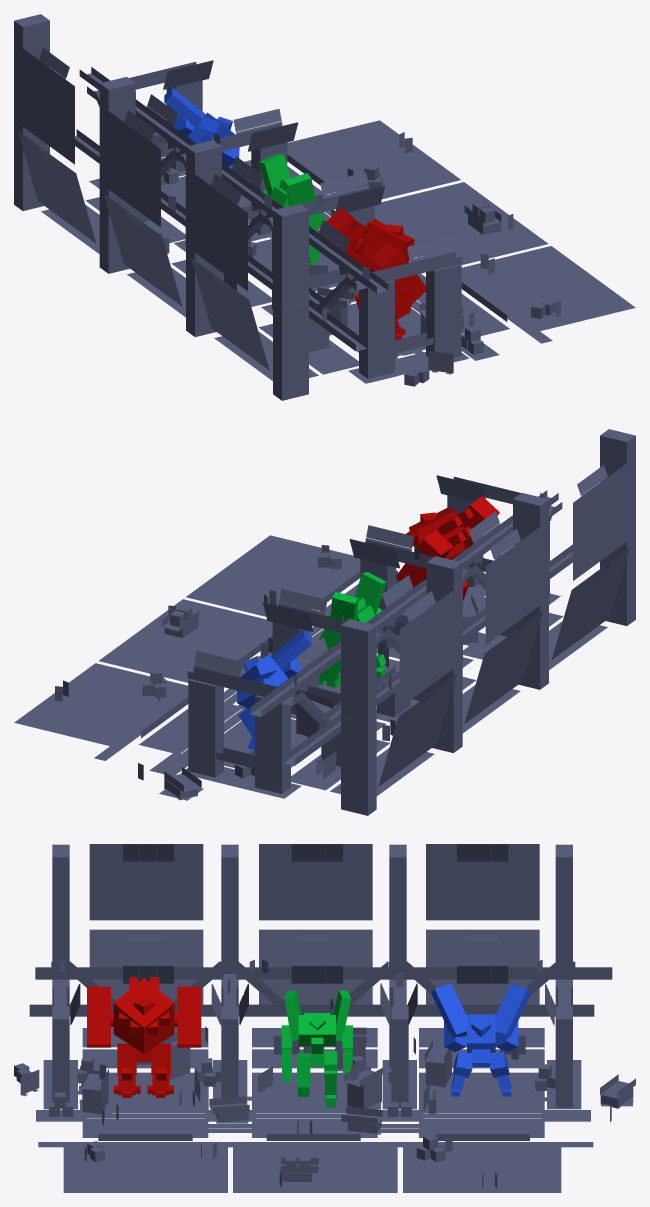
The model's file is MechHangar_.fbx.
3 renders of one model, top to bottom at view 1: azimuth 30°, elevation 25°; view 2: azimuth 150°, elevation 25°; view 3: azimuth 270°, elevation 25°, orthographic. The views are drawn at different scales.
Visible parts, largest first — view 1: Plane.114, Plane.107, Plane.113, Plane.151, Plane.150, Plane.149, OmegaXD, Cube.026, Cube.019, Plane.154, Plane.153, Plane.152 (+42 smaller); view 2: Plane.107, Plane.113, Plane.114, Plane.151, Plane.150, Plane.149, Cube.028, OmegaXD, Cube.017, Plane.153, Plane.154, Plane.152 (+40 smaller); view 3: OmegaXD, Plane.149, Plane.151, Plane.150, Plane.114, Plane.107, Plane.113, Plane.153, Plane.152, Cube.009, Plane.154, AlphaUWU (+64 smaller).
Part boxes in pixels (x1,y1,x2,y2): Plane.114: [461, 246, 635, 330]; Plane.107: [287, 120, 460, 199]; Plane.113: [374, 182, 548, 264]; Plane.151: [16, 43, 74, 164]; Plane.150: [102, 106, 160, 227]; Plane.149: [189, 170, 247, 290]; OmegaXD: [326, 208, 425, 340]; Cube.026: [273, 204, 308, 308]; Cube.019: [273, 302, 308, 400]; Plane.154: [191, 257, 269, 370]; Plane.153: [104, 194, 182, 306]; Plane.152: [18, 131, 96, 243]; Plane.107: [14, 663, 188, 746]; Plane.113: [99, 599, 272, 682]; Plane.114: [186, 535, 360, 616]; Plane.151: [399, 587, 458, 707]; Plane.150: [485, 524, 544, 644]; Plane.149: [573, 460, 631, 580]; Cube.028: [341, 619, 376, 723]; OmegaXD: [396, 496, 499, 600]; Cube.017: [341, 717, 376, 815]; Plane.153: [464, 611, 542, 723]; Plane.154: [551, 547, 629, 660]; Plane.152: [378, 674, 456, 786]; OmegaXD: [87, 977, 201, 1097]; Plane.149: [89, 844, 203, 920]; Plane.151: [426, 844, 539, 920]; Plane.150: [259, 844, 372, 920]; Plane.114: [63, 1147, 227, 1192]; Plane.107: [403, 1147, 561, 1192]; Plane.113: [233, 1147, 397, 1192]; Plane.153: [259, 929, 372, 1004]; Plane.152: [426, 929, 539, 1004]; Cube.009: [431, 983, 530, 1096]; Plane.154: [89, 929, 203, 1004]; AlphaUWU: [281, 990, 352, 1107].
Bounding box in the file's own units: 2773 × 1307 × 4106.
